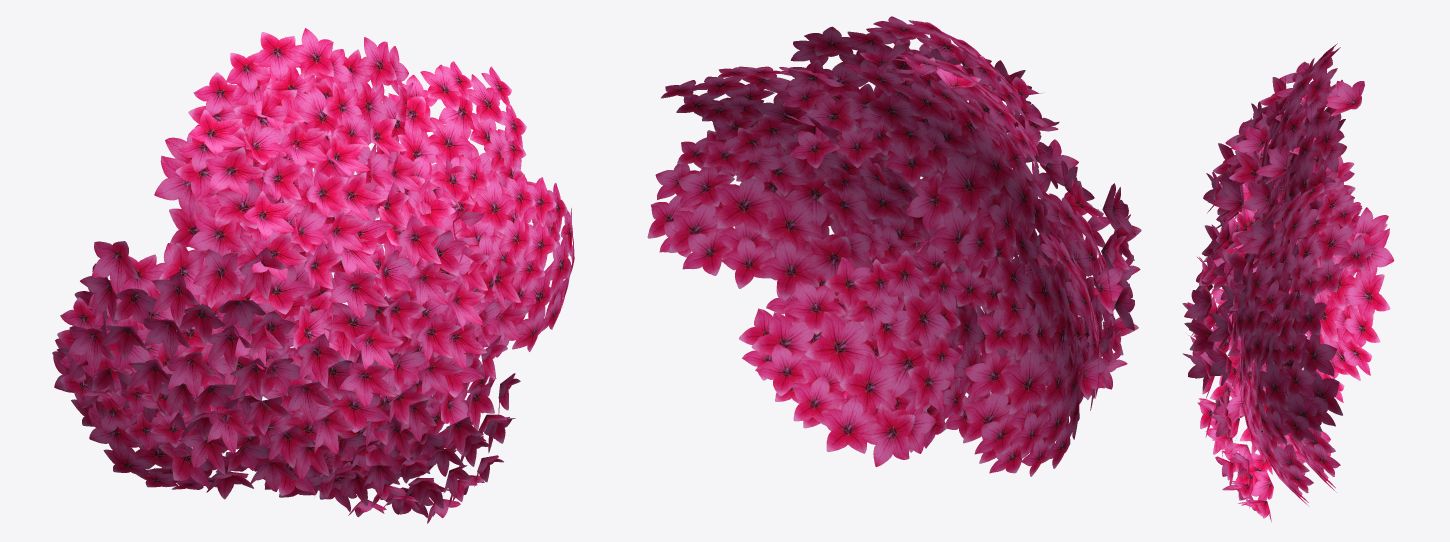
Rendered from SM_Flowers_03.fbx.
3 views of the same model, side by side, from view 1: azimuth 30°, elevation 25°; view 2: azimuth 150°, elevation 25°; view 3: azimuth 270°, elevation 25° (orthographic). The views are drawn at different scales.
Visible parts, largest first — view 1: SM_Flowers_03_LOD0; view 2: SM_Flowers_03_LOD0; view 3: SM_Flowers_03_LOD0.
Boxes of the visible parts, left/top/right/bottom form: SM_Flowers_03_LOD0: left=52, top=28, right=574, bottom=523; SM_Flowers_03_LOD0: left=647, top=16, right=1141, bottom=476; SM_Flowers_03_LOD0: left=1182, top=43, right=1394, bottom=521.
Bounding box in the file's own units: 183 × 91.8 × 167.
2 materials, 2 textured.
